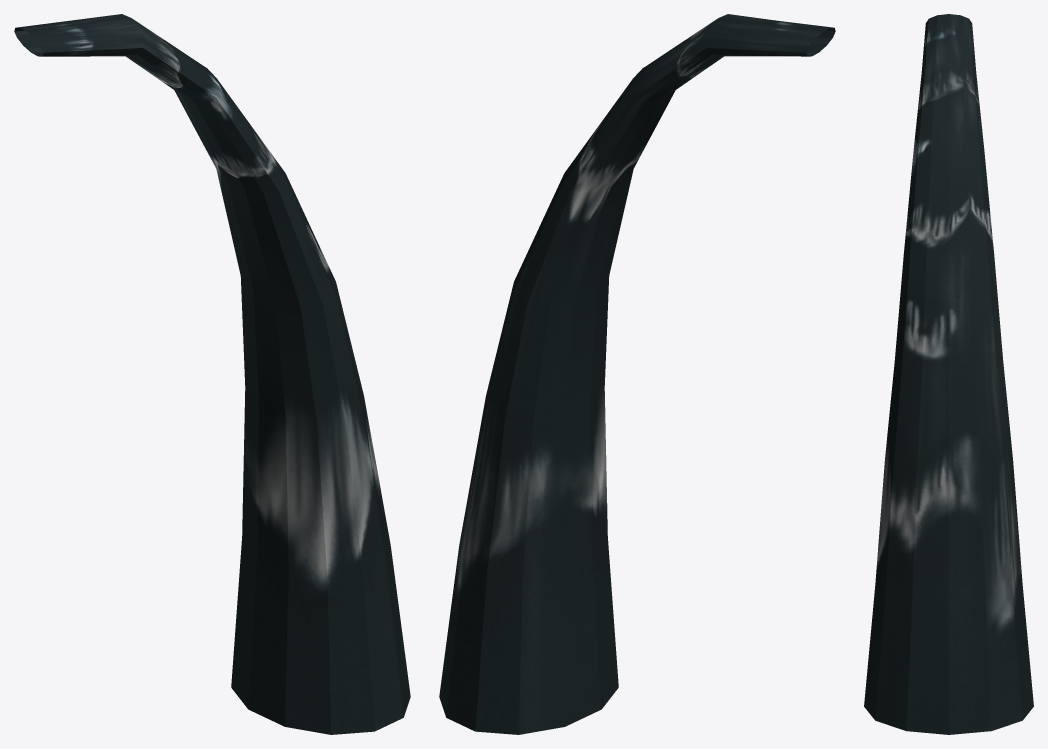
Rendered from water_3.fbx.
The picture shows the model from 3 angles, left to right: view 1: azimuth 30°, elevation 25°; view 2: azimuth 150°, elevation 25°; view 3: azimuth 270°, elevation 25°; orthographic projection. The views are drawn at different scales.
Parts seen in each view (by area): view 1: pCylinder1; view 2: pCylinder1; view 3: pCylinder1.
Part boxes in pixels (x1,y1,x2,y2): pCylinder1: (14,14,410,734); pCylinder1: (439,14,835,734); pCylinder1: (864,14,1033,734).
Bounding box in the file's own units: 312 × 595 × 158.
